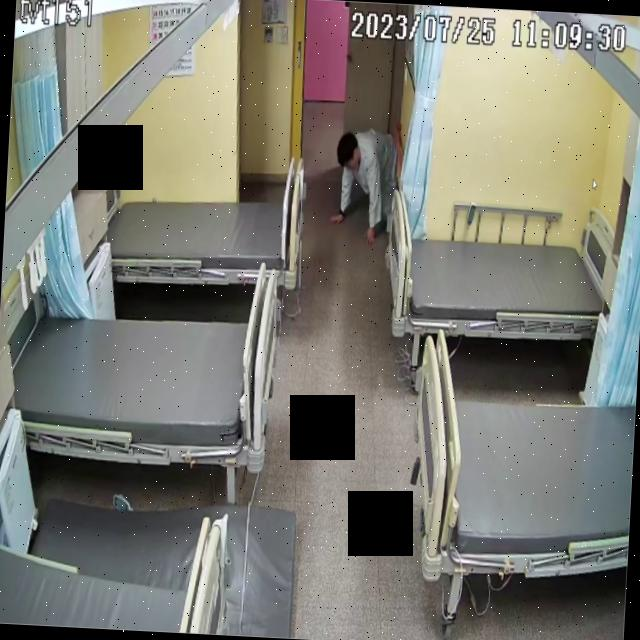bed: (406, 330, 640, 586), (7, 302, 278, 468), (381, 216, 621, 348), (107, 182, 301, 290)
fall: (330, 120, 400, 244)
patient: (328, 120, 402, 246)
